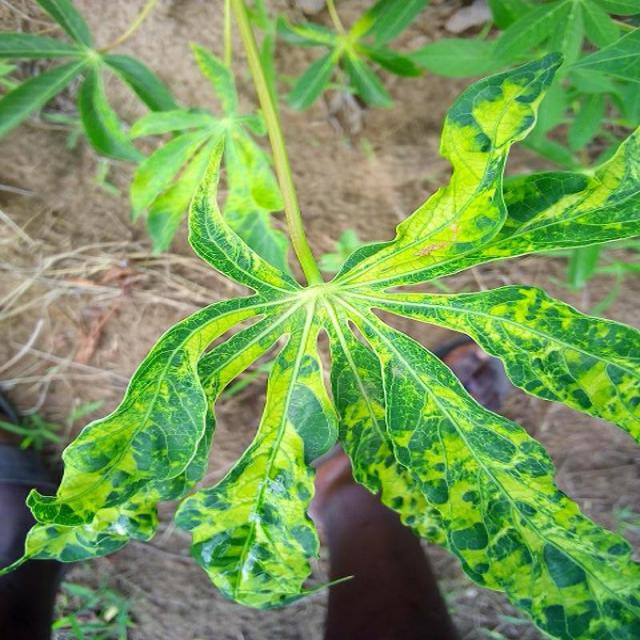cassava leaf: (7, 31, 639, 635)
